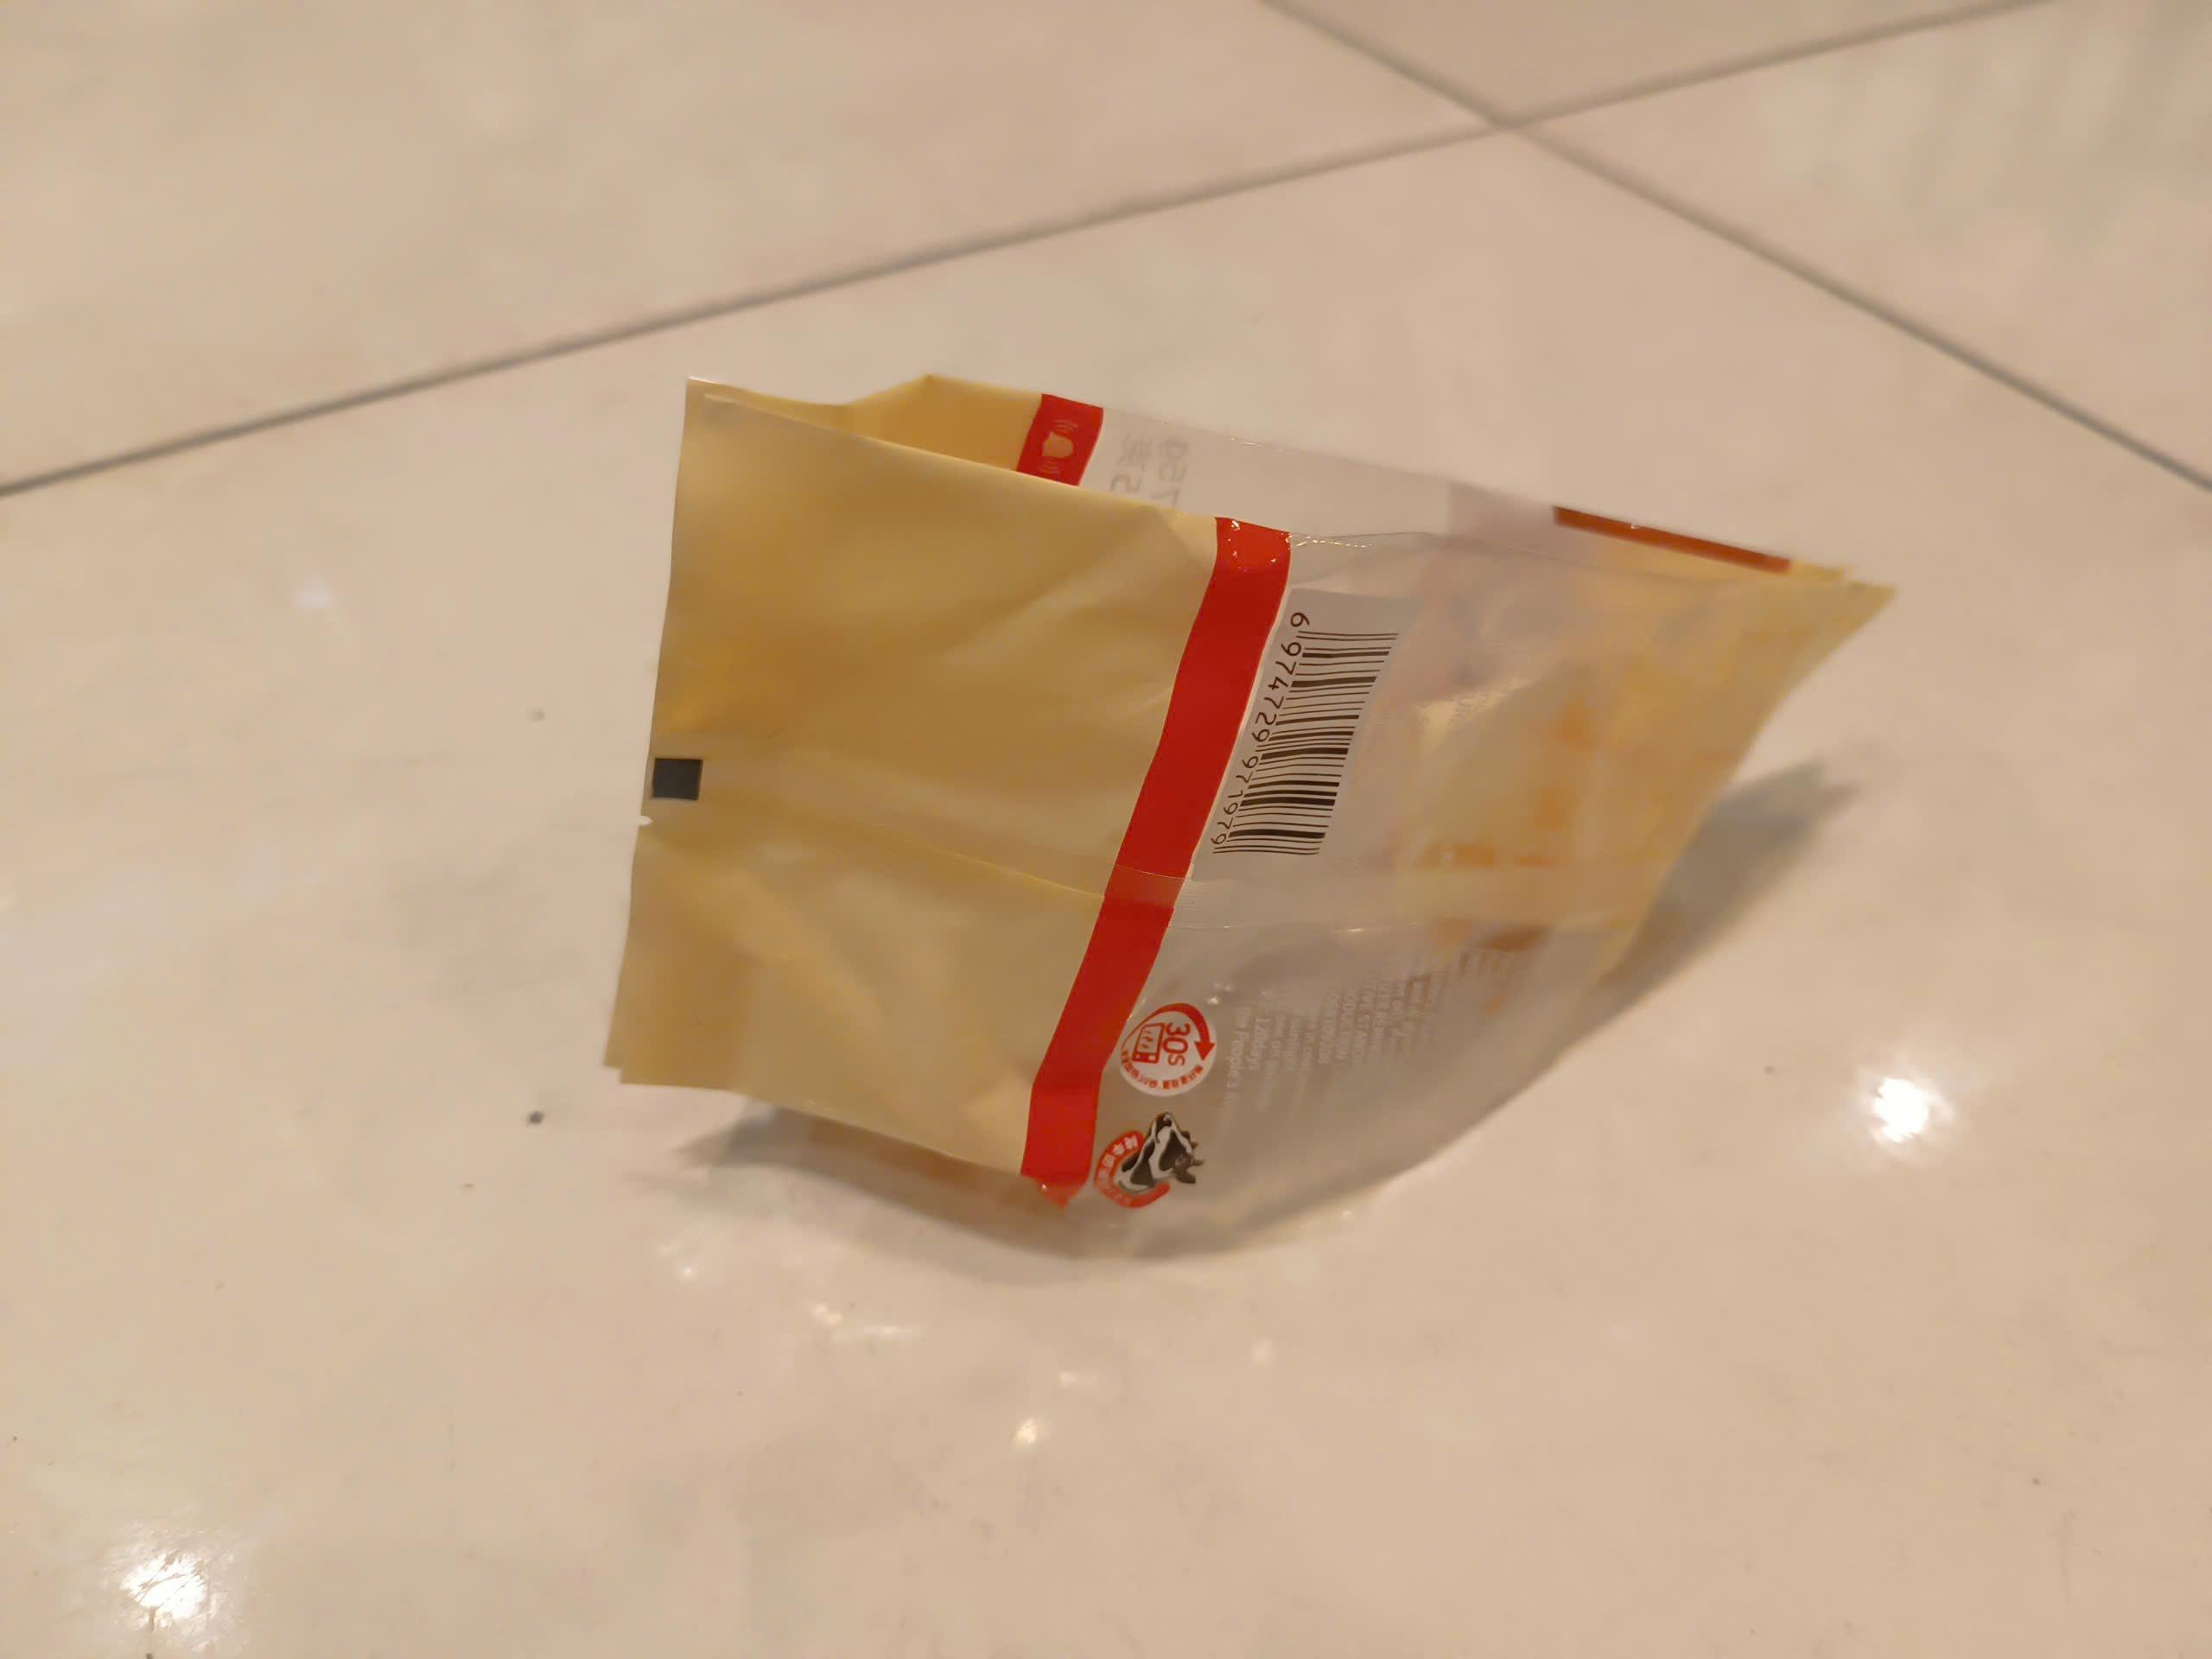Vo co: (603, 369, 1897, 1220)
